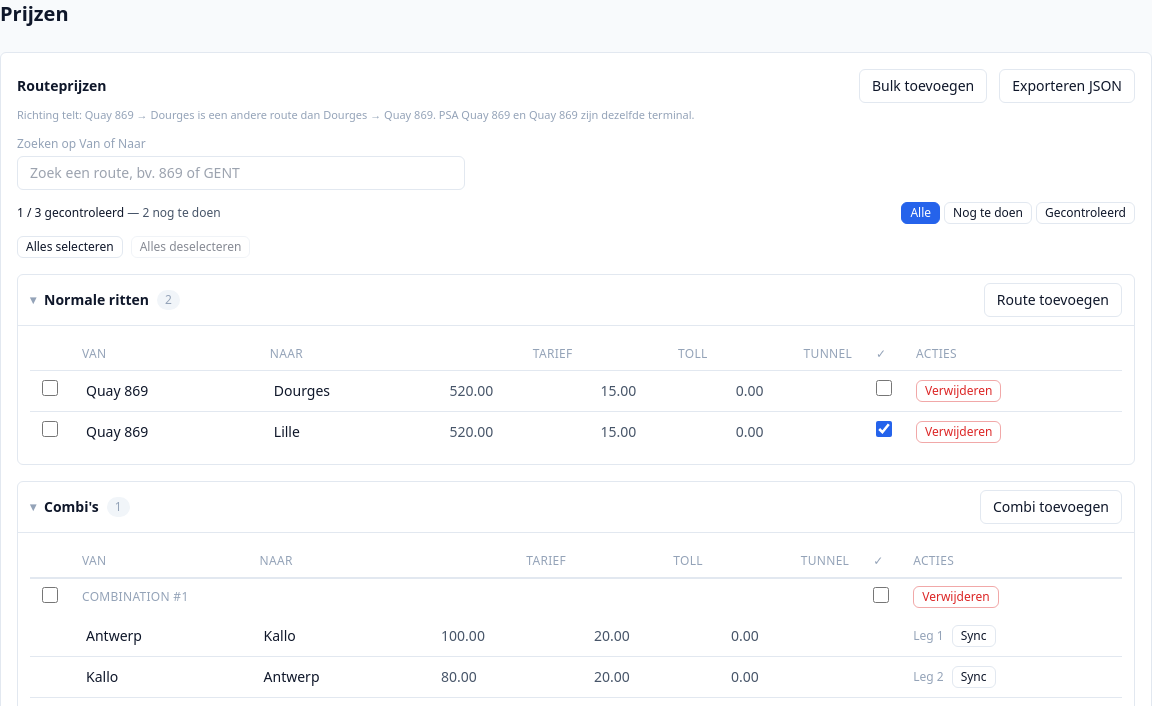
Test case: deleting the selection › names and counts what will be deleted
The image size is (1152, 706).
expect the button "Lille" is shown: met, box [270,420,422,444]
What coordinates should you click on to do the following:
click the checkbox named "Selecteren: Quay 869 Dourges"
I would click on:
 (50, 388)
Its box is [42,380,58,396].
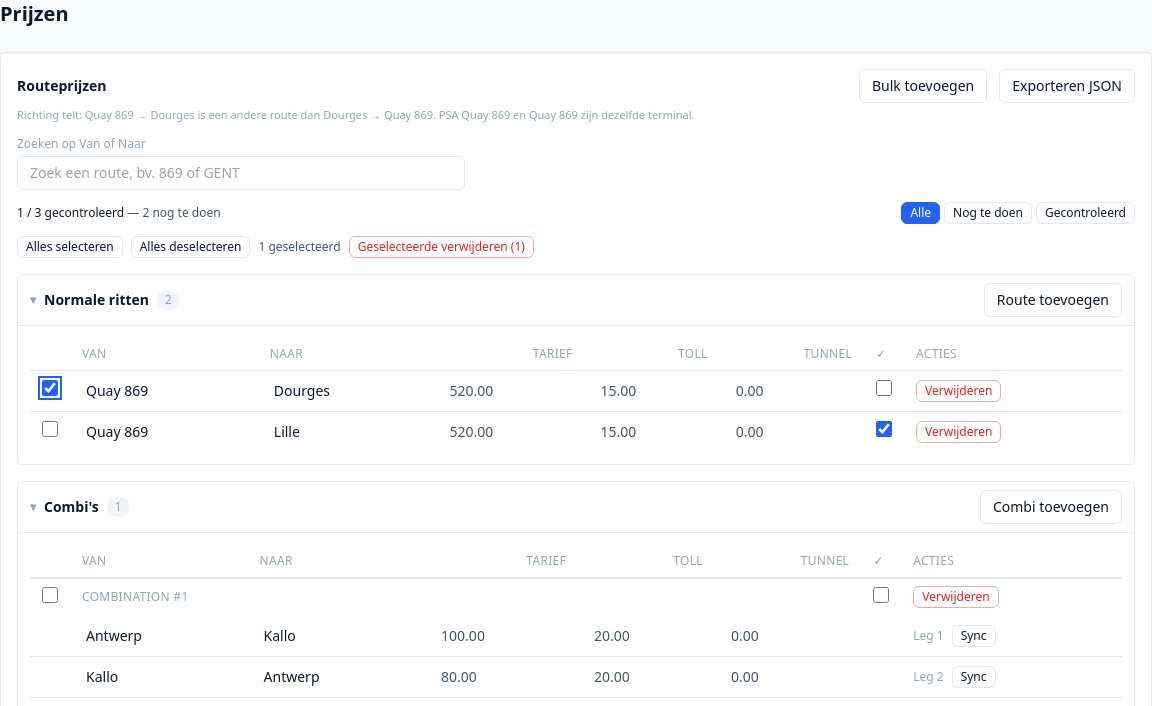
What coordinates should you click on to do the following:
click the checkbox named "Selecteren: Combination #1"
I would click on:
 (50, 594)
Its box is [42,586,58,602].
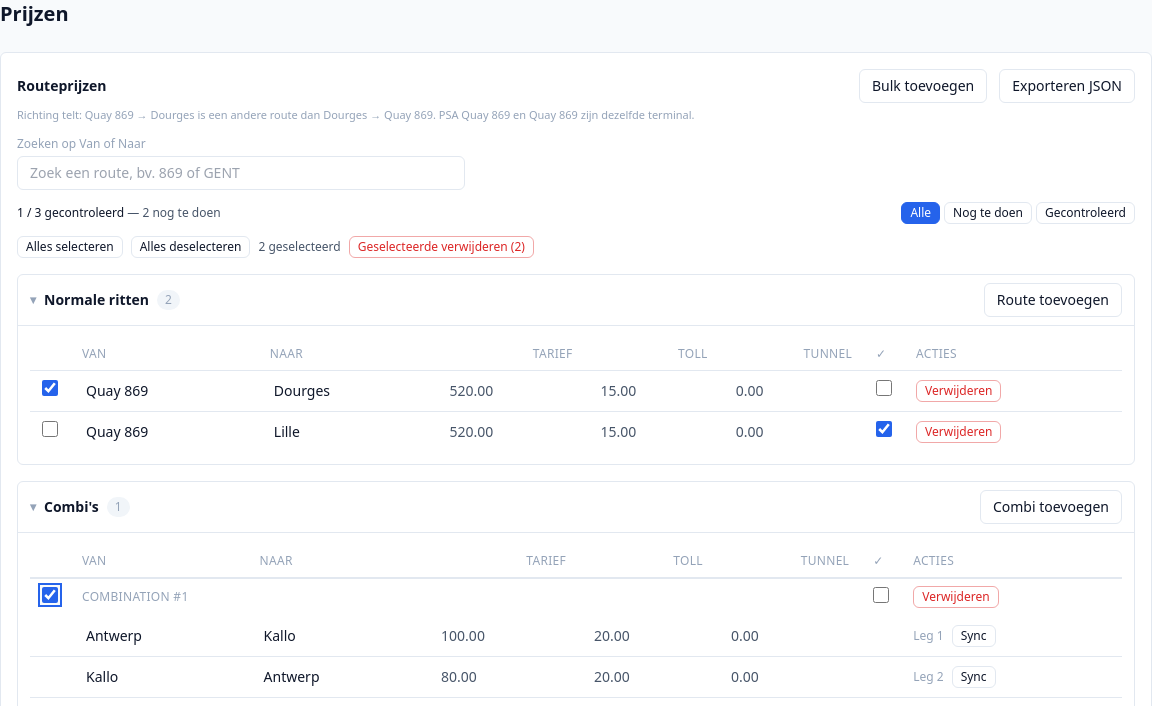
What coordinates should you click on to do the following:
click the button "Geselecteerde verwijderen (2)"
I would click on:
 (441, 246)
Its box is [349,236,534,258].
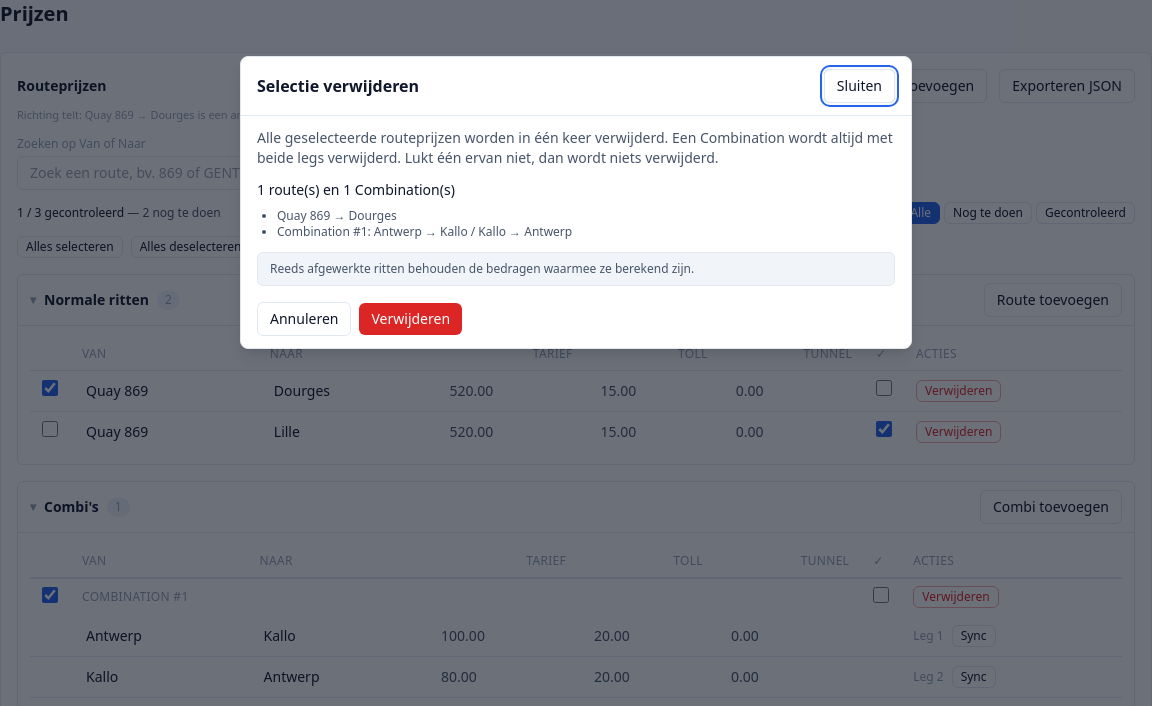
expect the dialog shows "1 route(s) en 1 Combination(s)": met, box [257,180,455,199]
expect the dialog shows "Quay 869 → Dourges": met, box [277,207,397,224]
expect the dialog shows "Combination #1: Antwerp → Kallo / Kallo → Antwerp": met, box [277,223,572,240]
